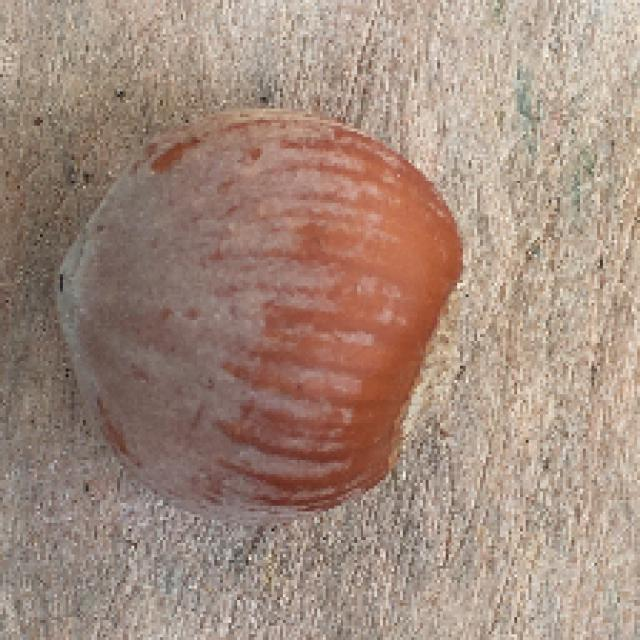qualityHazelnut: (50, 107, 475, 518)
